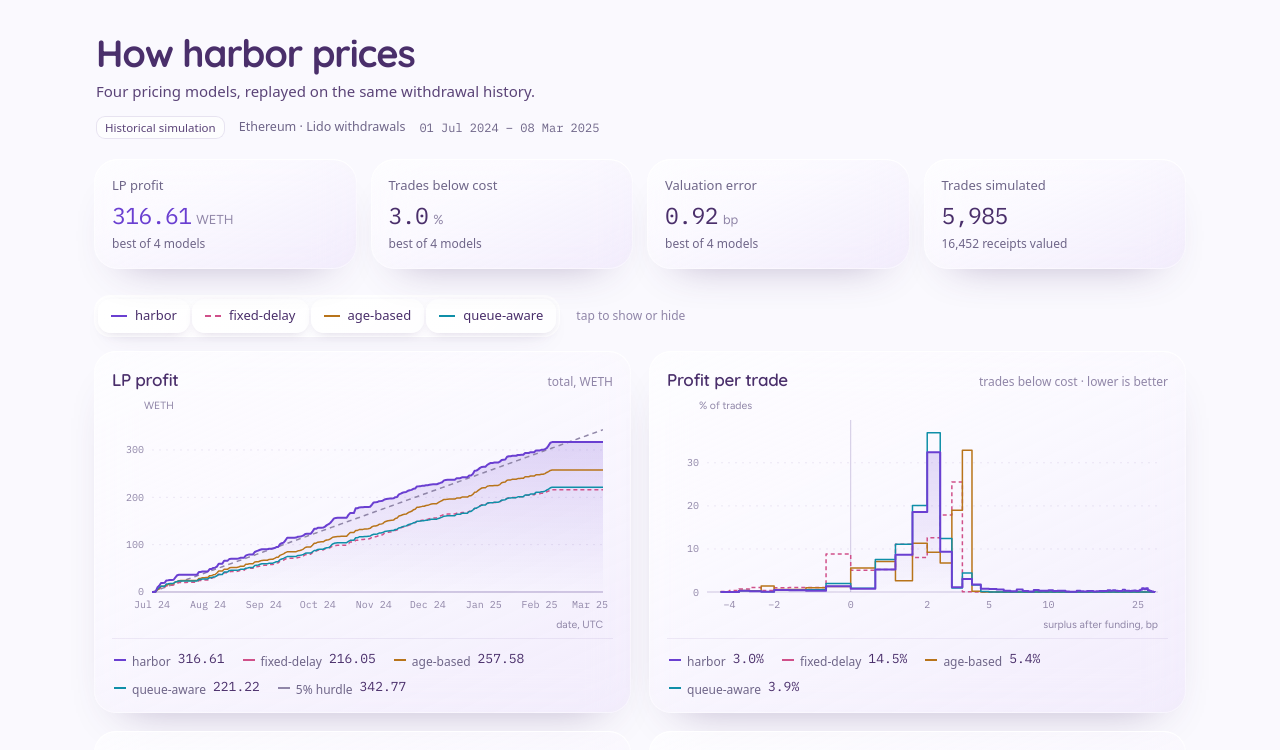
Test: Analytics page › toggles chart series and keeps the shared valuation when Harbor is hidden
Click the button "harbor".
click(144, 316)  # box 98,299 -> 190,333
(page scrolled)
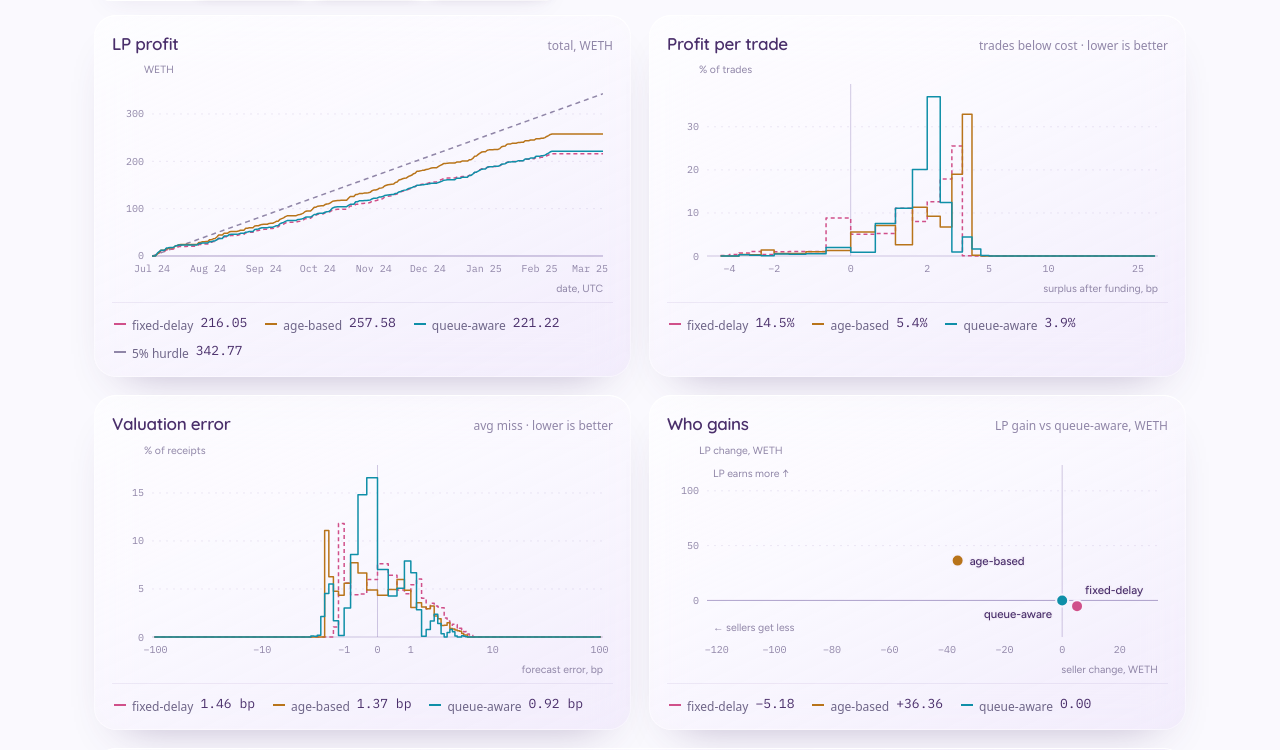
Check: the text "harbor" is gone
